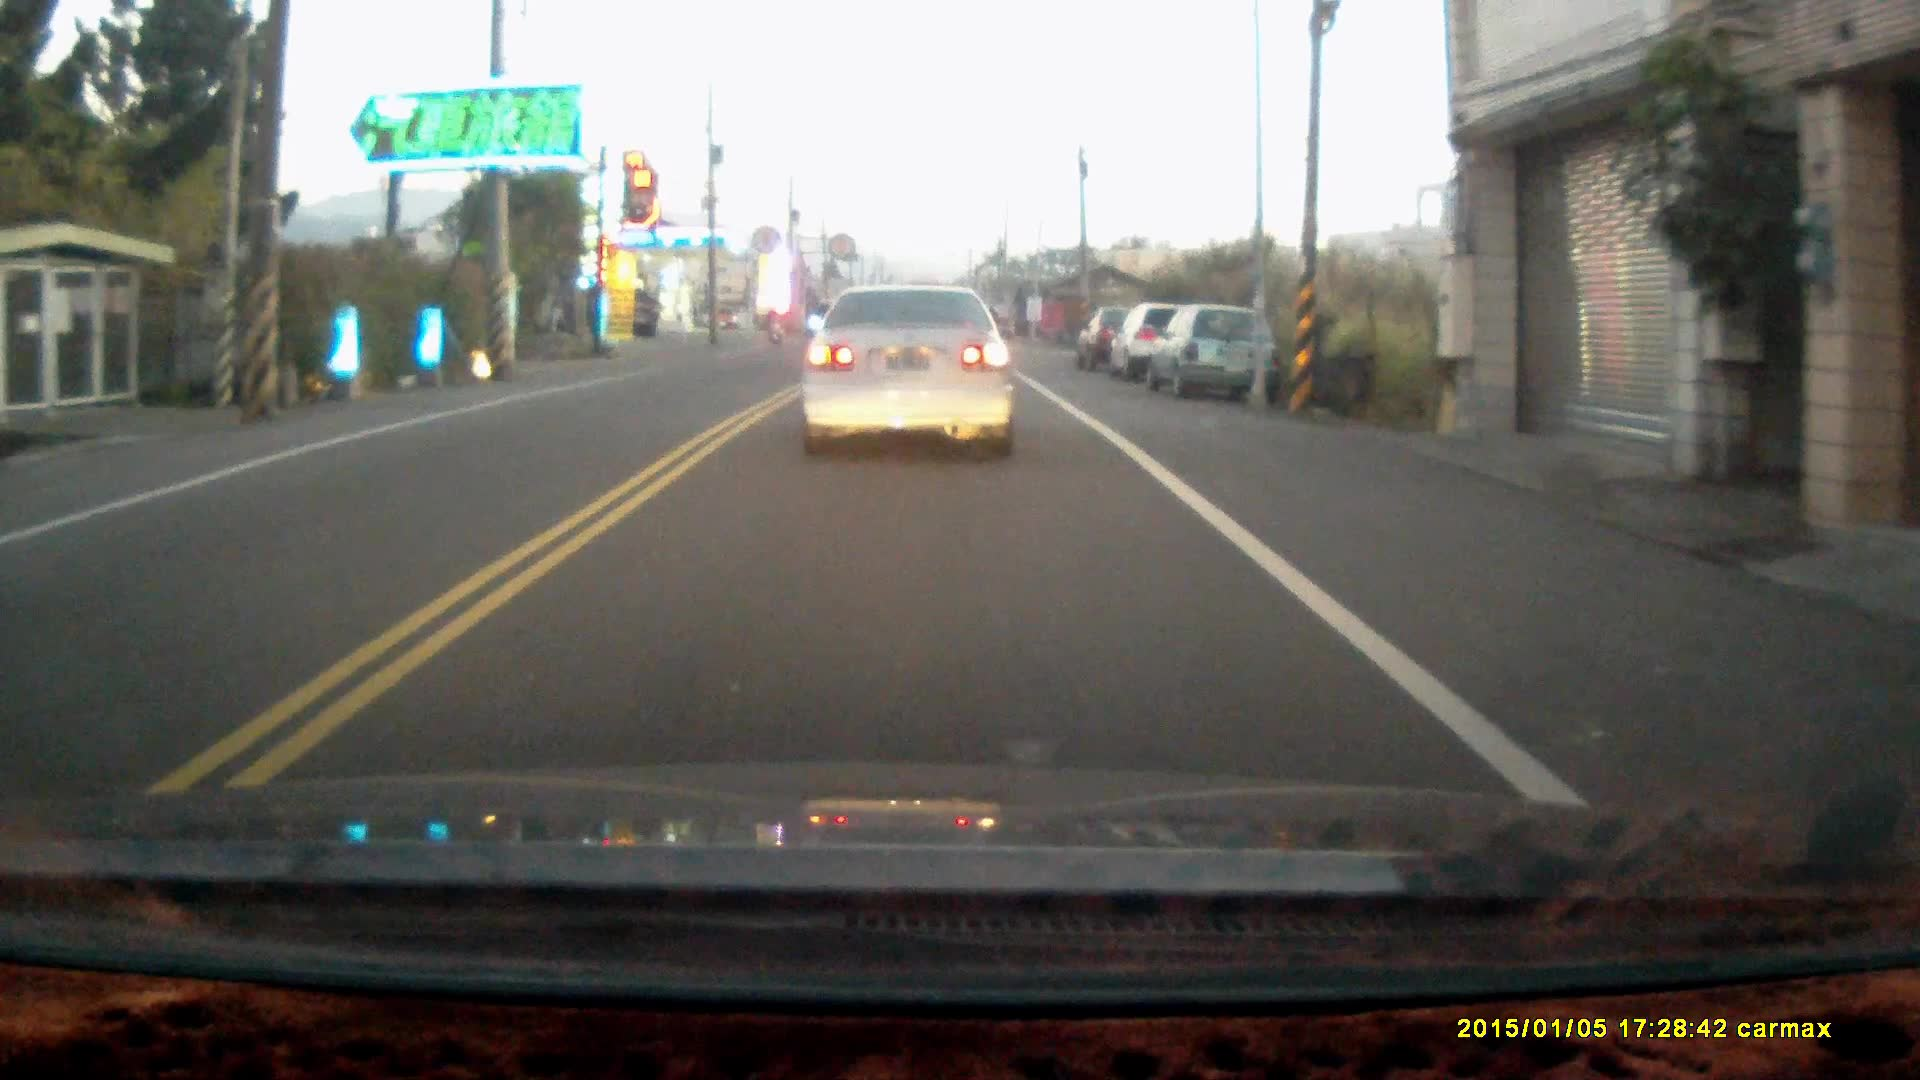vehicle: (800, 278, 1017, 463), (1155, 305, 1280, 406), (1117, 301, 1221, 378), (1077, 309, 1174, 375)
